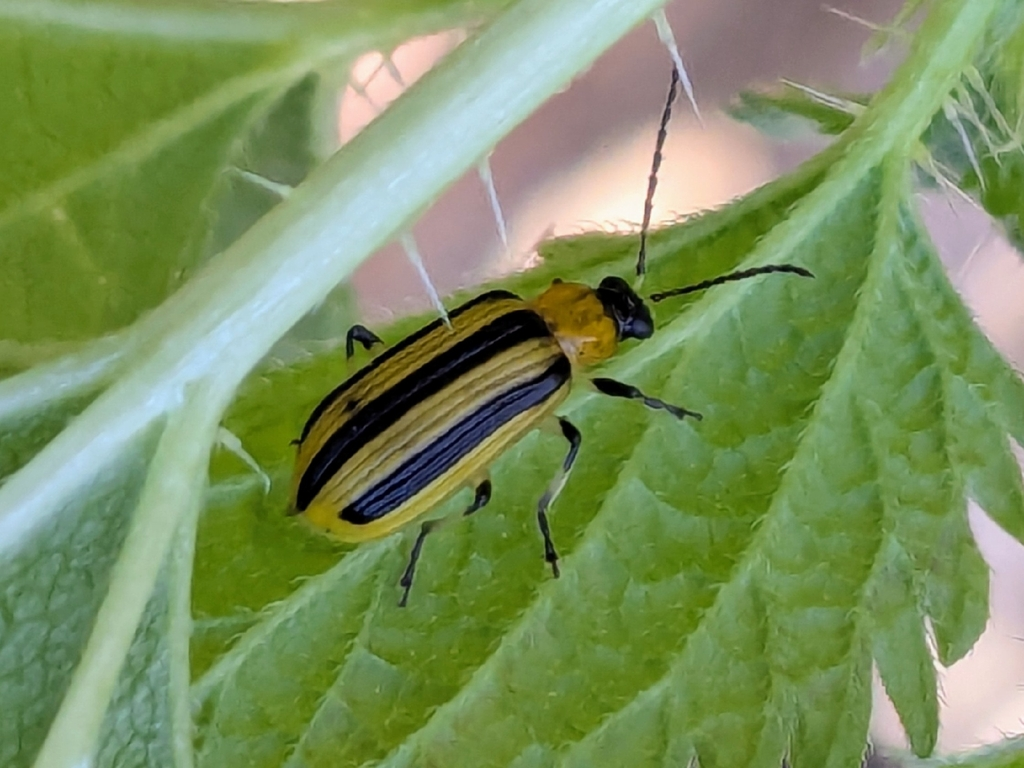potato_beetle: (167, 0, 879, 690)
